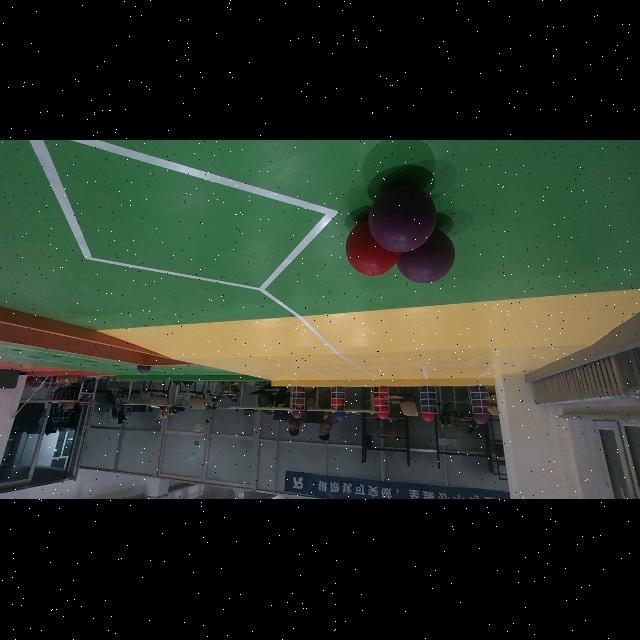P: (368, 183, 436, 253), (392, 228, 454, 288)
R: (346, 222, 400, 276)
S: (418, 376, 440, 420), (367, 381, 391, 419), (470, 378, 490, 420), (326, 382, 346, 416), (288, 382, 306, 414)
